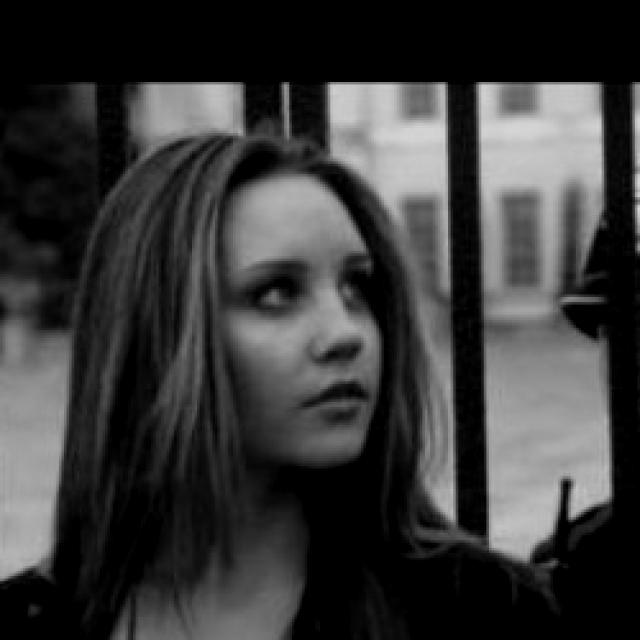real: (159, 157, 454, 488), (235, 266, 384, 322)
